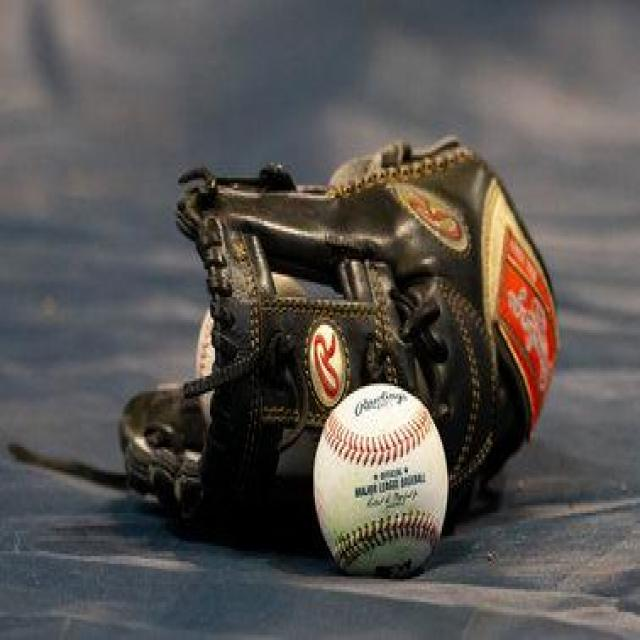baseball: (312, 382, 448, 578)
